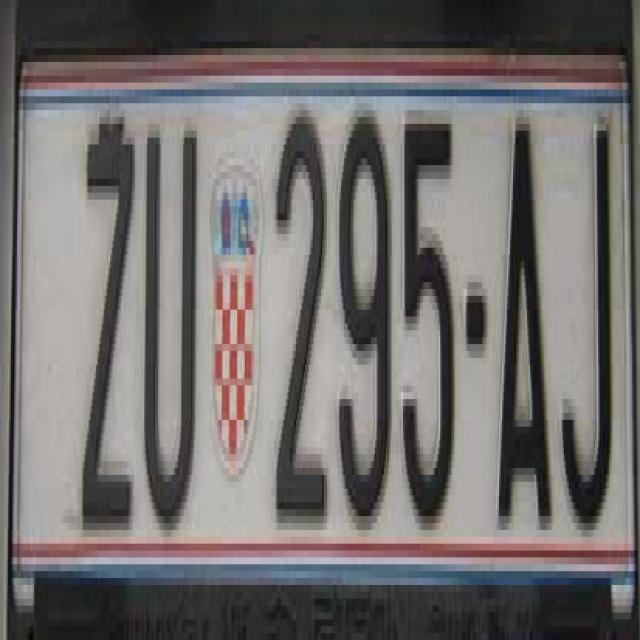Autre: (9, 39, 636, 570)
